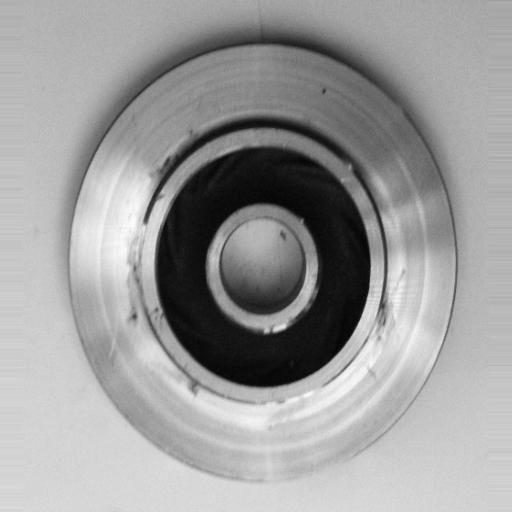crack: (119, 211, 164, 333), (147, 125, 195, 212), (374, 256, 411, 355)
scratch: (240, 379, 333, 417)
unpolished_casting: (64, 36, 459, 485)
